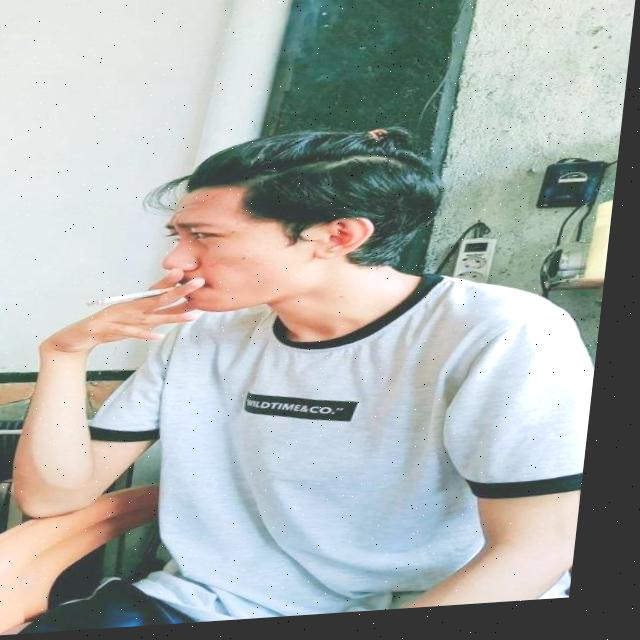cigarette: (95, 289, 183, 310)
